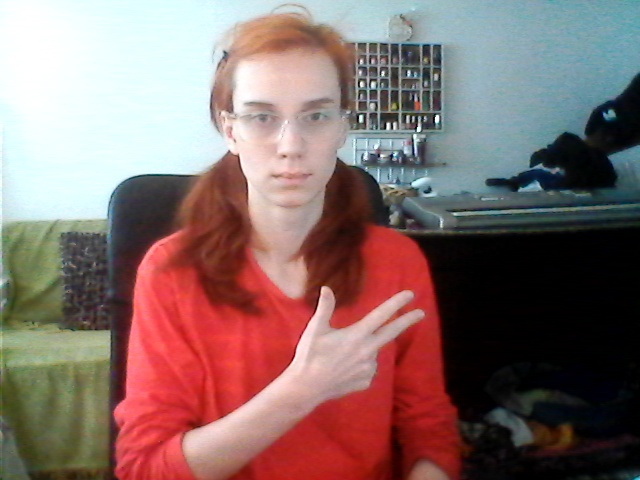tri: (286, 284, 430, 402)
